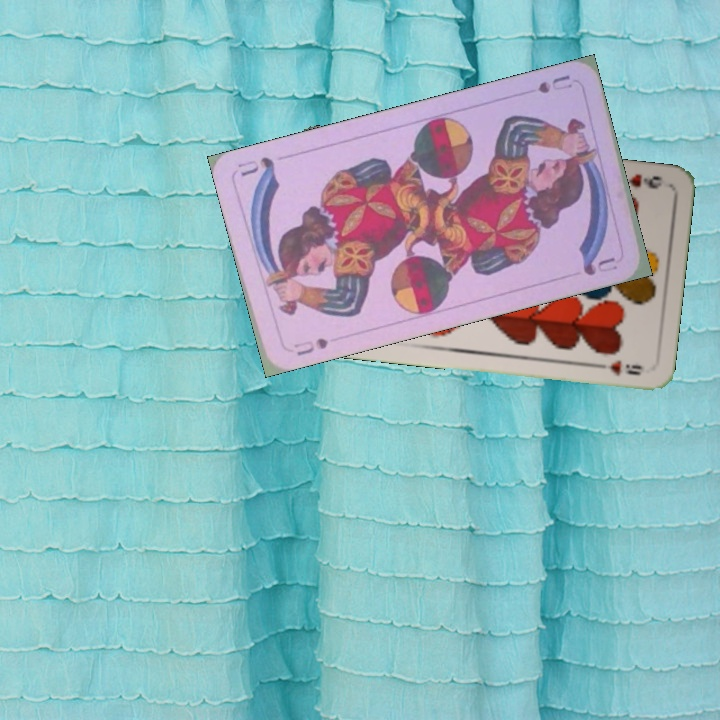H9: (625, 169, 665, 192)
SU: (533, 70, 575, 96), (292, 333, 331, 359)
